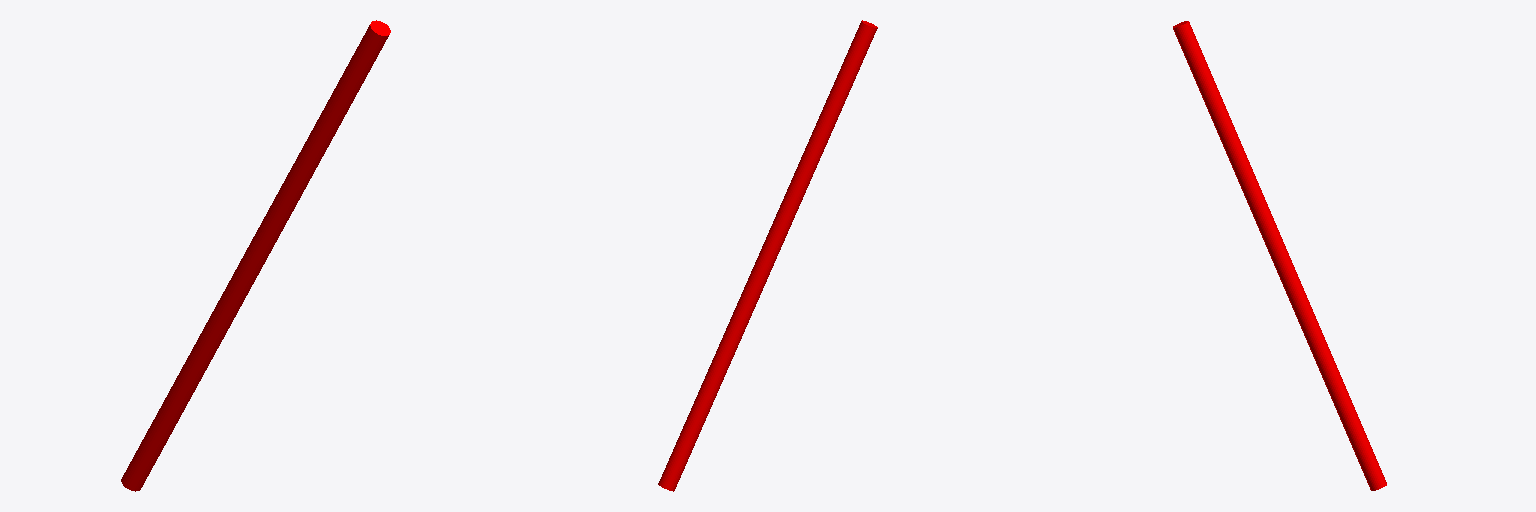
URDF robot description (tree_89.urdf):
<?xml version='1.0' encoding='utf-8'?>
<robot name="tree_89.urdf">
  <link name="branch_0">
    <inertial>
      <origin xyz="0.0 0.0 0.0" rpy="0.0 -0.0 0.0" />
      <mass value="1.0" />
      <inertia ixx="1.0" ixy="0.0" ixz="0.0" iyy="1.0" iyz="0.0" izz="1.0" />
    </inertial>
    <visual name="branch_0_visual">
      <geometry>
        <cylinder radius="0.063644420581822" length="3.6729801233847708" />
      </geometry>
      <material name="semantic_material" />
      <origin xyz="-0.4266210282994137 -0.7131646462136594 1.6377076760822116" rpy="5.551115123125783e-17 0.4695773562625726 -2.109897377412445" />
    </visual>
    <collision name="branch_0_collision">
      <geometry>
        <cylinder radius="0.063644420581822" length="3.6729801233847708" />
      </geometry>
      <origin xyz="-0.4266210282994137 -0.7131646462136594 1.6377076760822116" rpy="5.551115123125783e-17 0.4695773562625726 -2.109897377412445" />
    </collision>
  </link>
  <material name="semantic_material">
    <color rgba="1. 0. 0. 1." />
  </material>
</robot>

--- What the picture shows (computed from the rendered views, not written in the file) ---
3 views of the same robot in one strip: view 1: azimuth 90°, elevation 25°; view 2: azimuth 150°, elevation 25°; view 3: azimuth 270°, elevation 25° (orthographic).
Model tree_89.urdf with 1 links and 0 joints (none), rooted at branch_0, posed every joint at zero.
Links seen in each view (by area): view 1: branch_0; view 2: branch_0; view 3: branch_0.
Boxes of the visible links, x1=… form: branch_0: x1=121, y1=20, x2=390, y2=491; branch_0: x1=658, y1=20, x2=877, y2=491; branch_0: x1=1173, y1=21, x2=1386, y2=490.
Size in the robot's own frame: 0.9765 by 1.54 by 3.33 metres.
Geometry: primitives only (box / cylinder / sphere), no mesh files.